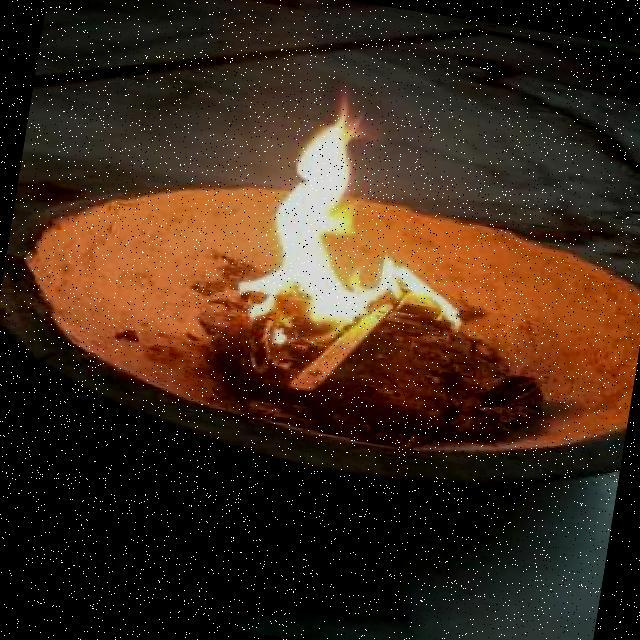Fire: (223, 90, 508, 372)
